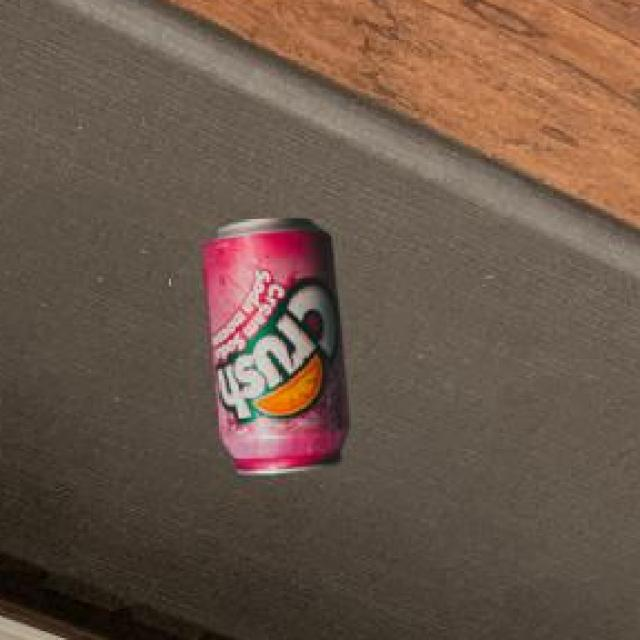logam: (206, 221, 352, 477)
